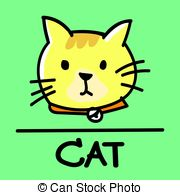cat: (23, 5, 149, 122)
